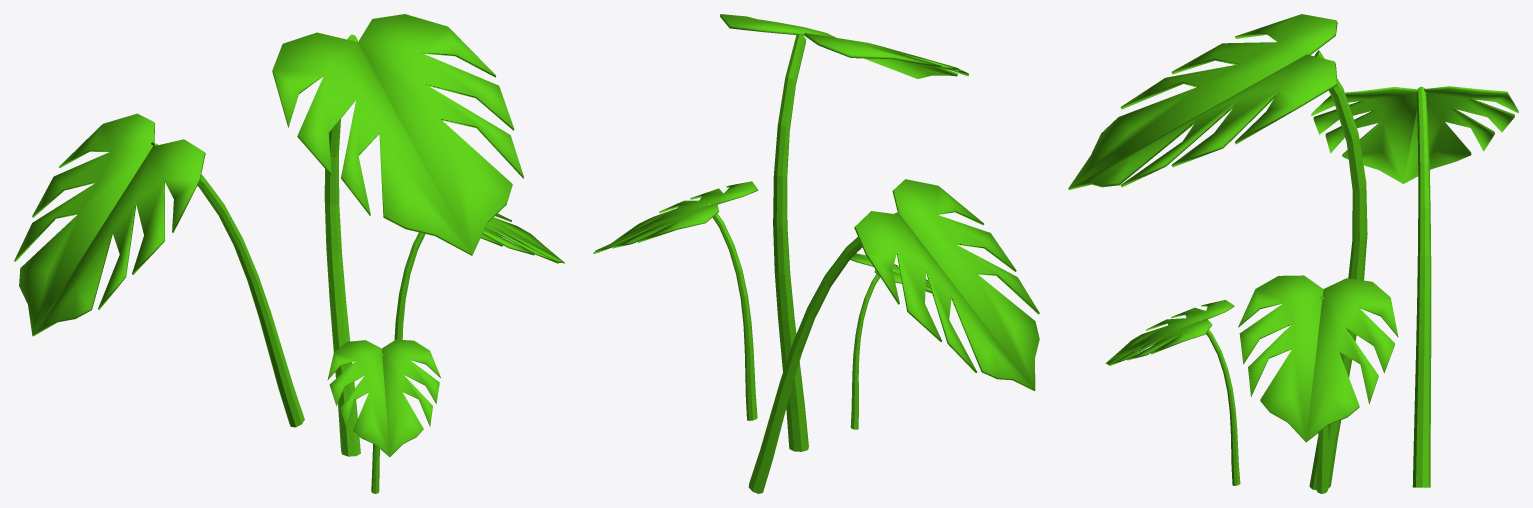
The model's file is Monstera_med.fbx.
3 renders of one model, left to right at view 1: azimuth 30°, elevation 25°; view 2: azimuth 150°, elevation 25°; view 3: azimuth 270°, elevation 25°, orthographic. The views are drawn at different scales.
Parts seen in each view (by area): view 1: Monstera_med; view 2: Monstera_med; view 3: Monstera_med.
Boxes of the visible parts, bbox=[...] form: Monstera_med: bbox=[14, 14, 564, 493]; Monstera_med: bbox=[593, 14, 1039, 493]; Monstera_med: bbox=[1068, 14, 1518, 493].
Bounding box in the file's own units: 451 × 380 × 348.
